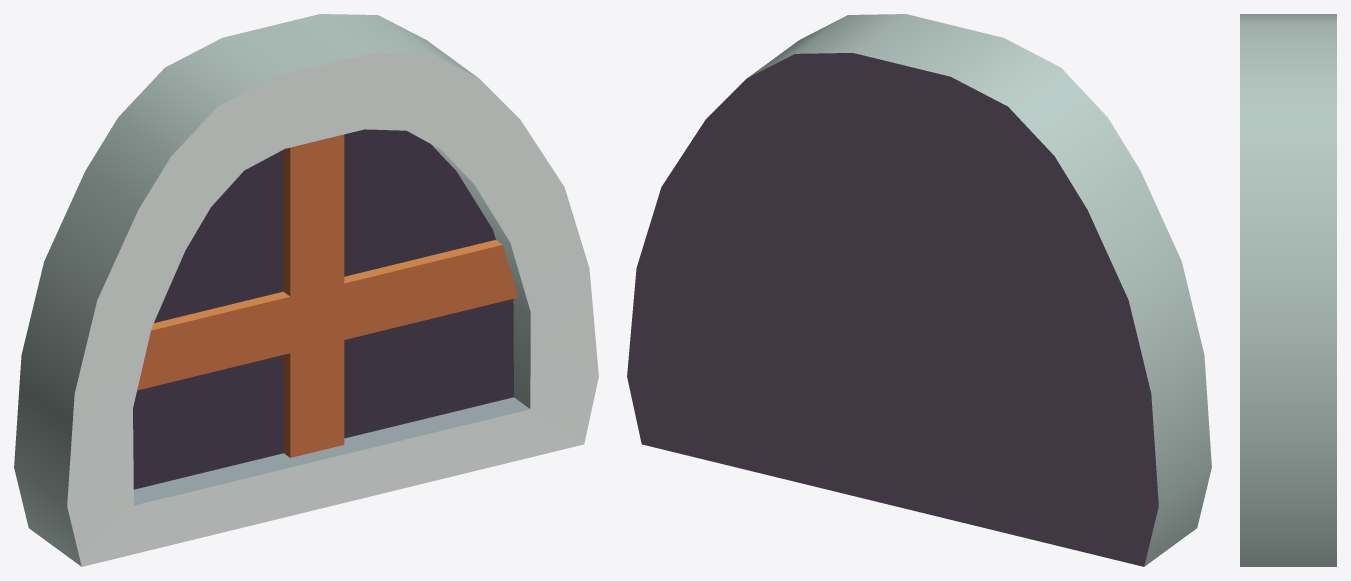
The model's file is Window03_White_Wood.glb.
3 views of the same model, side by side, from view 1: azimuth 30°, elevation 25°; view 2: azimuth 150°, elevation 25°; view 3: azimuth 270°, elevation 25° (orthographic). The views are drawn at different scales.
Visible parts, largest first — view 1: Window03_White_Wood; view 2: Window03_White_Wood; view 3: Window03_White_Wood.
Part boxes in pixels (x1,y1,x2,y2): Window03_White_Wood: (14,14,598,566); Window03_White_Wood: (627,14,1211,566); Window03_White_Wood: (1240,14,1336,566).
Bounding box in the file's own units: 0.9047 × 0.7203 × 0.1565.
1 material, 1 textured.
